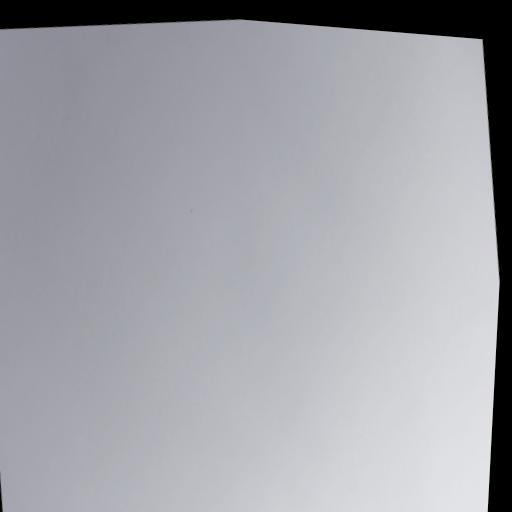drones: (188, 205, 195, 215)
